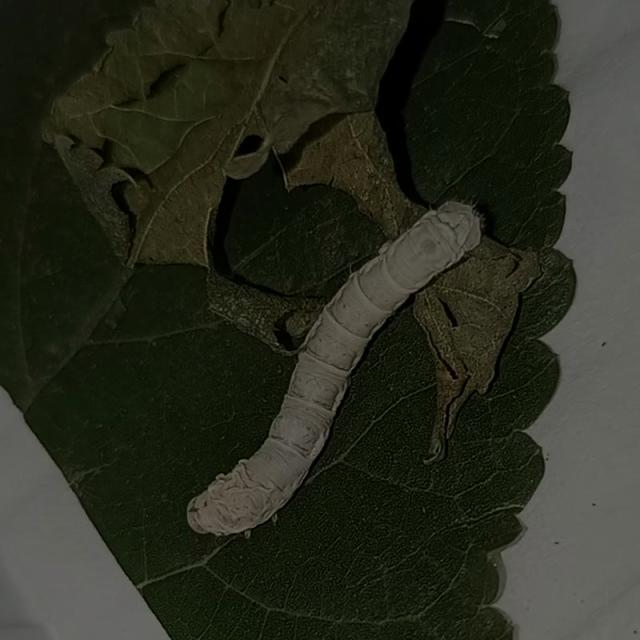Healthy: (176, 187, 488, 545)
